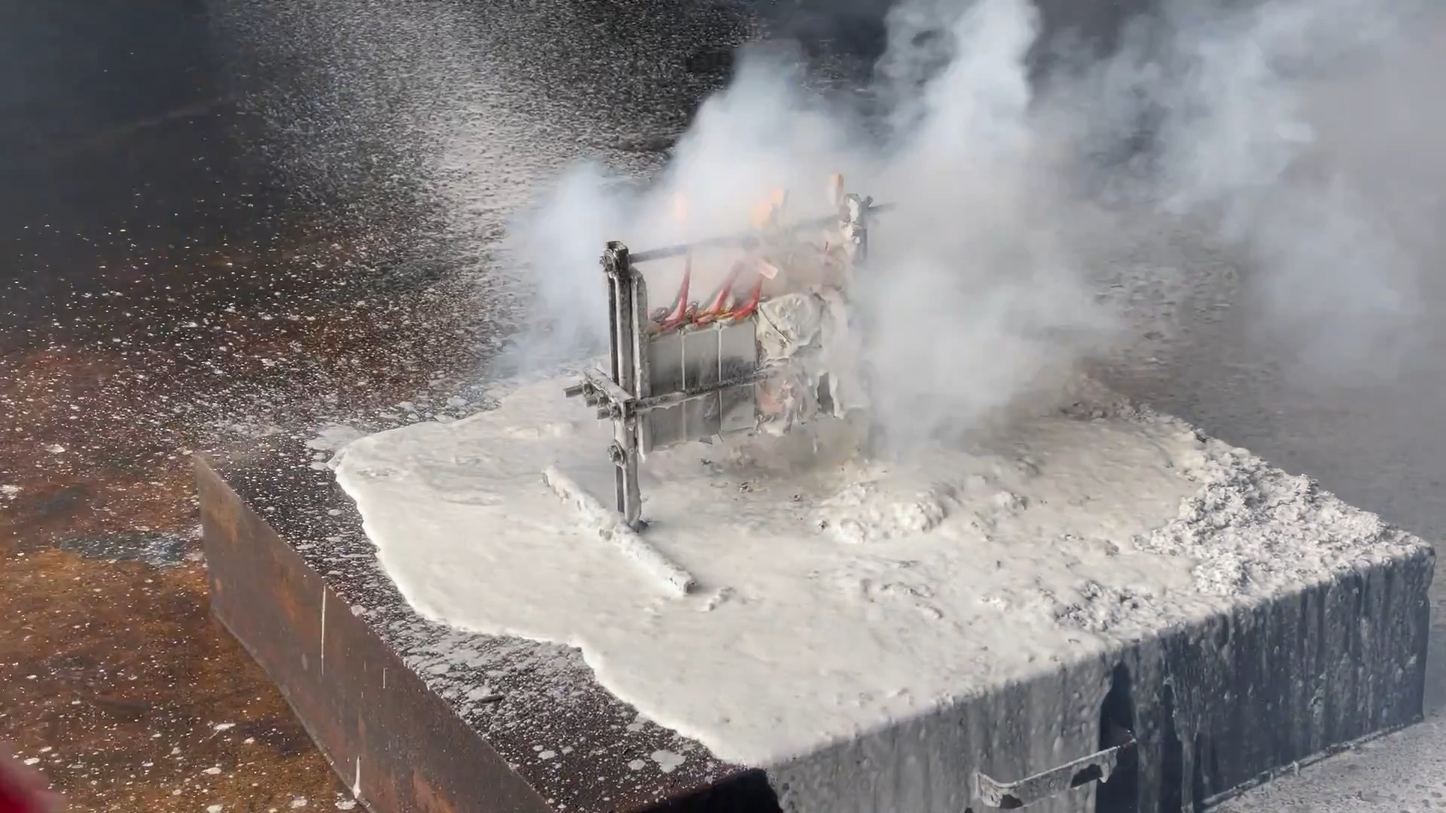fire: (746, 184, 789, 241), (664, 187, 699, 246), (828, 170, 848, 212)
smoke: (489, 0, 1445, 482)
